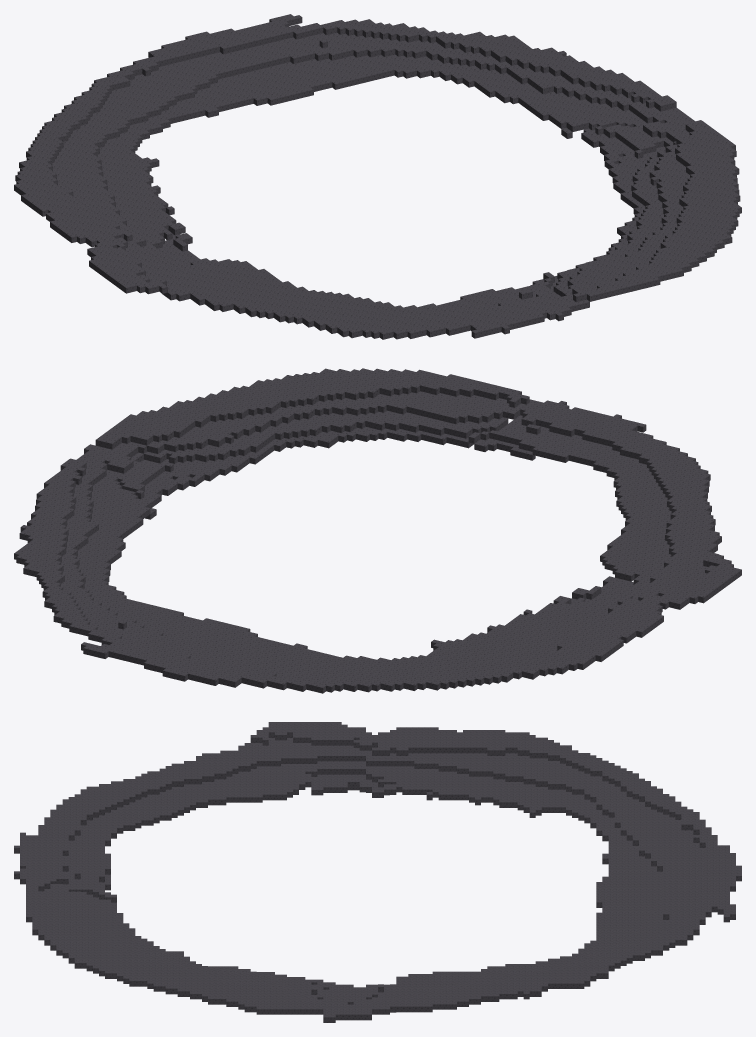
File: Wall_3.fbx
3 views of the same model, one above another, from view 1: azimuth 30°, elevation 25°; view 2: azimuth 150°, elevation 25°; view 3: azimuth 270°, elevation 25° (orthographic). The views are drawn at different scales.
Bounding box in the file's own units: 11300 × 400 × 12000.
